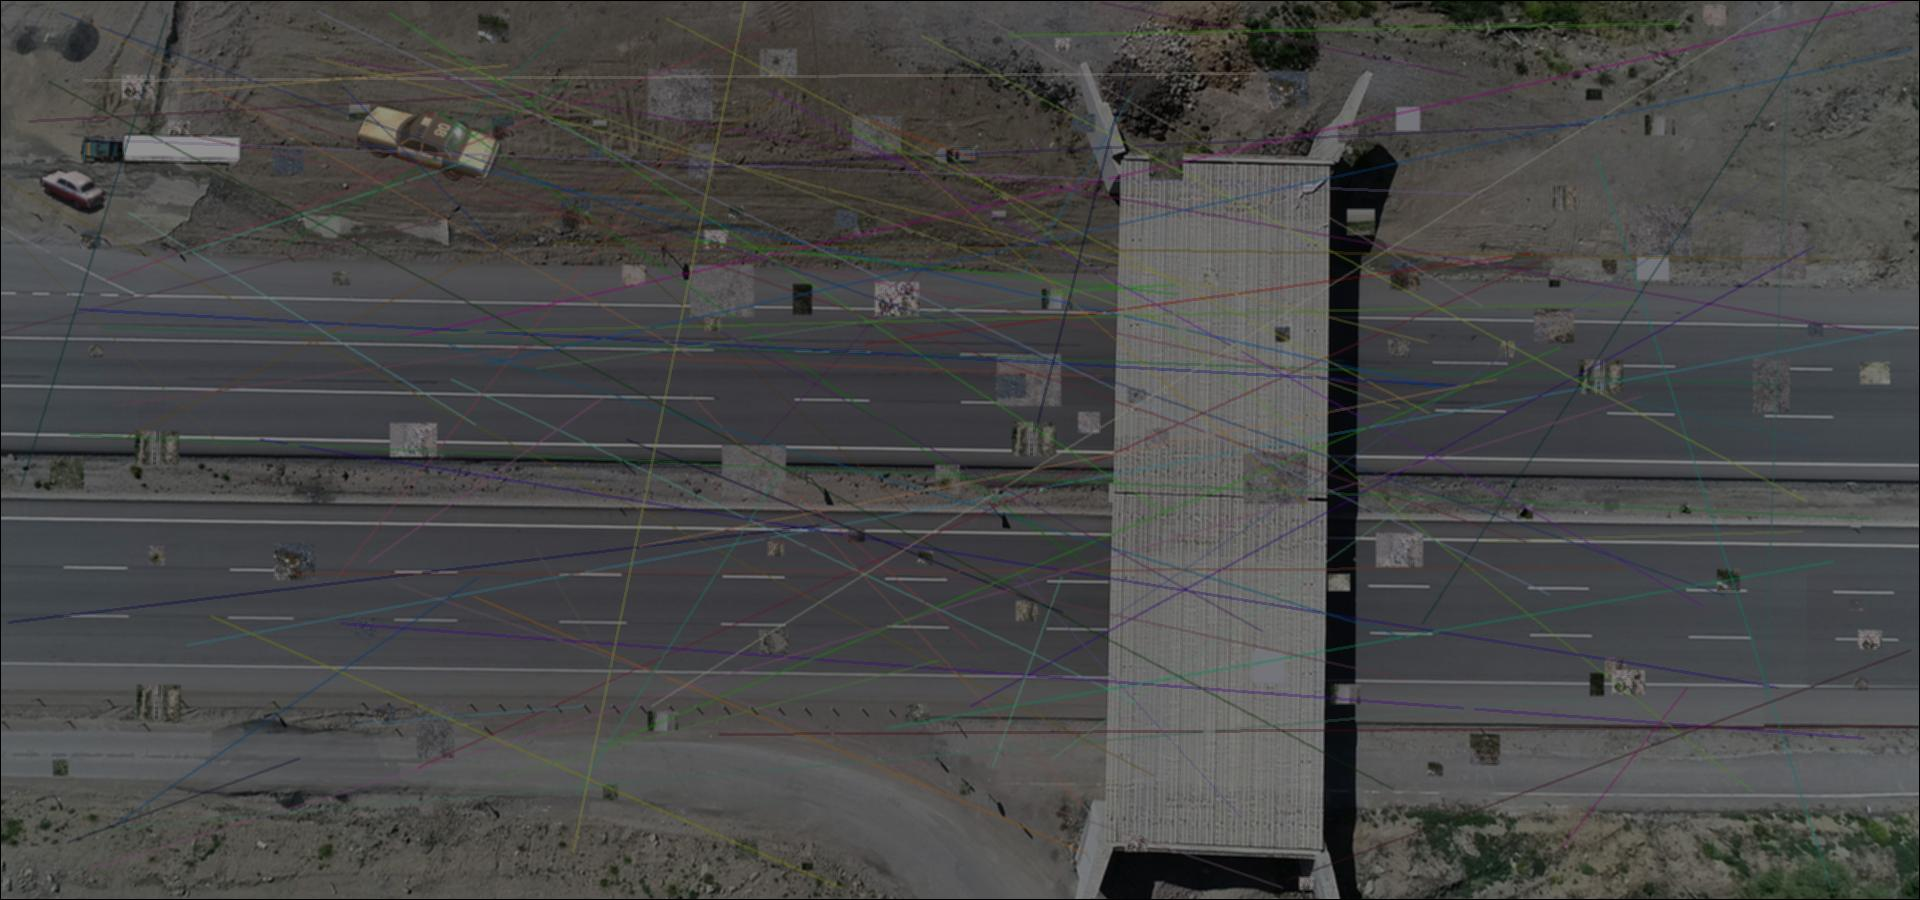arac: (358, 99, 502, 182), (81, 131, 245, 171), (40, 168, 109, 214), (936, 144, 980, 167)
